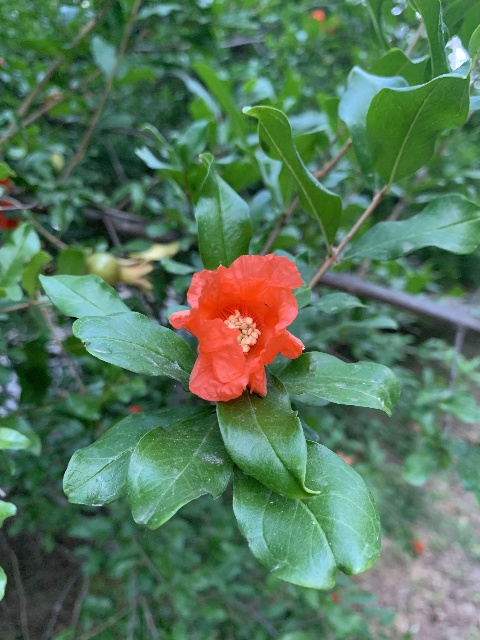flower: (168, 252, 306, 401)
mid-growth: (86, 252, 153, 294)
